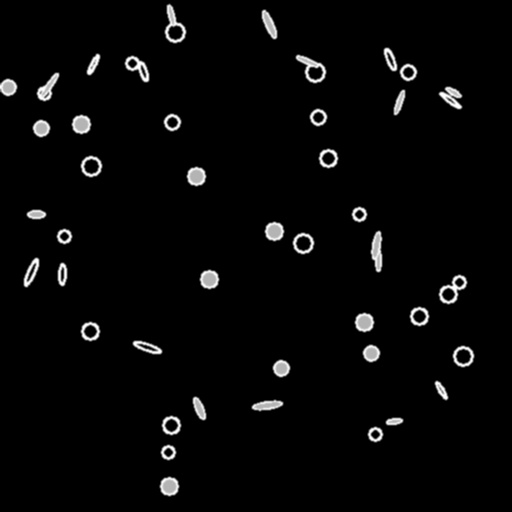pseudomonas: (260, 9, 278, 39), (39, 72, 59, 98), (23, 258, 39, 286), (439, 91, 461, 109), (133, 340, 161, 354), (392, 89, 406, 115), (191, 397, 207, 419), (383, 47, 397, 71), (295, 54, 319, 68), (253, 400, 281, 410), (86, 54, 100, 74), (137, 60, 149, 82), (371, 232, 381, 258), (434, 381, 448, 399), (444, 86, 462, 98), (166, 5, 176, 25), (58, 263, 66, 285), (386, 417, 402, 425), (27, 211, 44, 217), (375, 250, 380, 270)
synechocystis: (454, 347, 472, 365), (82, 157, 100, 175), (306, 63, 324, 81), (294, 234, 312, 252), (166, 23, 184, 41), (201, 271, 217, 287), (356, 314, 372, 330), (73, 116, 89, 132), (82, 323, 98, 339), (266, 223, 282, 239), (440, 286, 456, 302), (320, 150, 336, 166), (188, 168, 204, 184), (161, 478, 177, 494), (411, 308, 427, 324), (163, 417, 179, 433), (34, 121, 48, 135), (311, 110, 325, 124), (401, 65, 415, 79), (1, 80, 15, 94), (274, 361, 288, 375), (165, 115, 179, 129), (364, 346, 378, 360), (162, 446, 174, 458), (353, 208, 365, 220), (369, 428, 381, 440), (58, 230, 70, 242), (453, 276, 465, 288), (38, 87, 50, 99), (126, 57, 138, 69)
